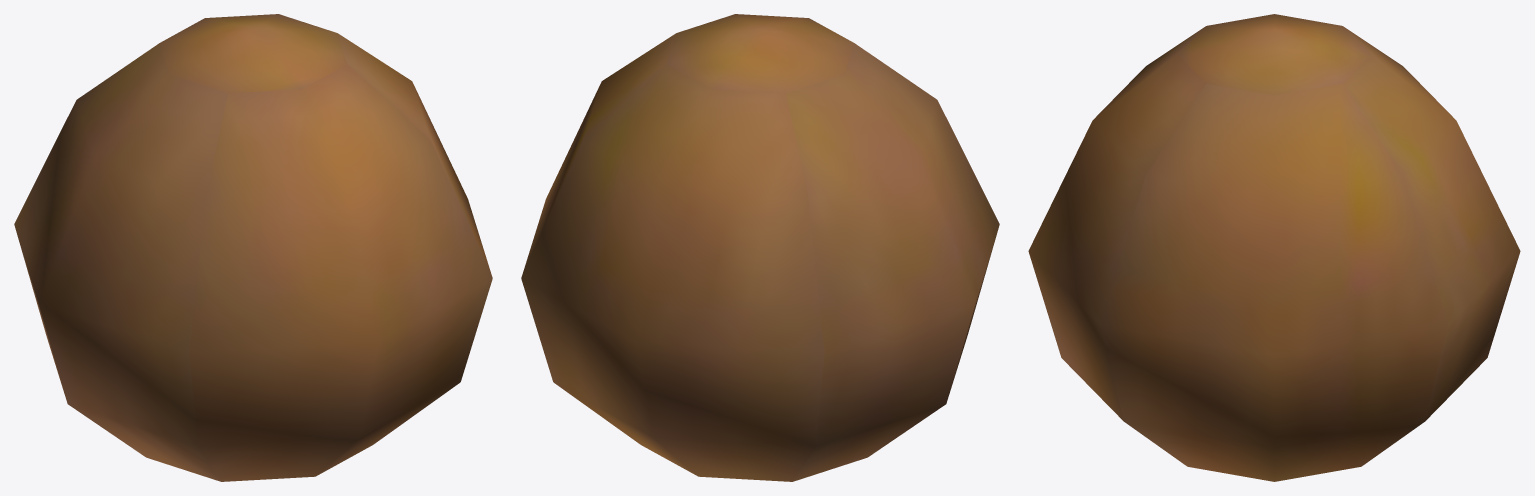
The model's file is coconut.glb.
3 views of the same model, side by side, from view 1: azimuth 30°, elevation 25°; view 2: azimuth 150°, elevation 25°; view 3: azimuth 270°, elevation 25° (orthographic).
Parts seen in each view (by area): view 1: pSphere1; view 2: pSphere1; view 3: pSphere1.
Part boxes in pixels (bbox=[...]): pSphere1: bbox=[14, 14, 492, 481]; pSphere1: bbox=[521, 14, 999, 481]; pSphere1: bbox=[1028, 14, 1520, 481].
Size of the model in its own units: 2.02 by 1.9 by 2.02.
1 material, 1 textured.
